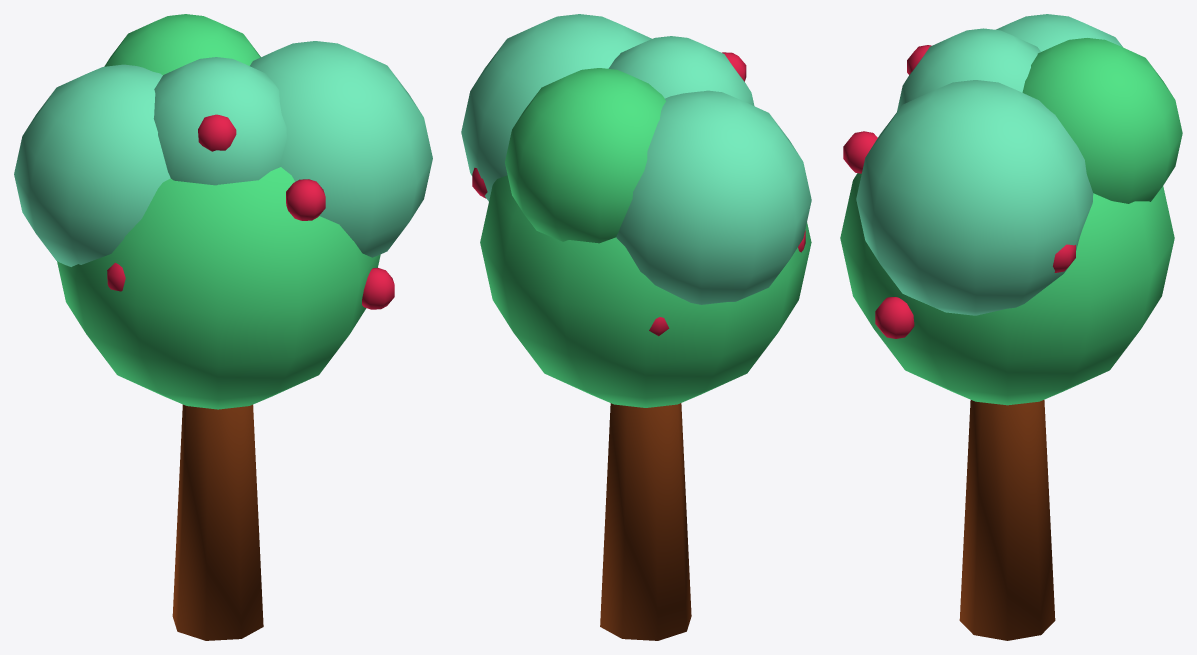
Rendered from tree-mint-puff.glb.
3 renders of one model, left to right at view 1: azimuth 30°, elevation 25°; view 2: azimuth 150°, elevation 25°; view 3: azimuth 270°, elevation 25°, orthographic.
Parts seen in each view (by area): view 1: tree-mint-puff; view 2: tree-mint-puff; view 3: tree-mint-puff.
Boxes of the visible parts, x1,y1,x2,y2 form: tree-mint-puff: [14, 14, 432, 640]; tree-mint-puff: [461, 14, 811, 640]; tree-mint-puff: [840, 14, 1182, 640].
Bounding box in the file's own units: 1.04 × 1.6 × 0.86.
Materials: 1 (1 with a texture image).
